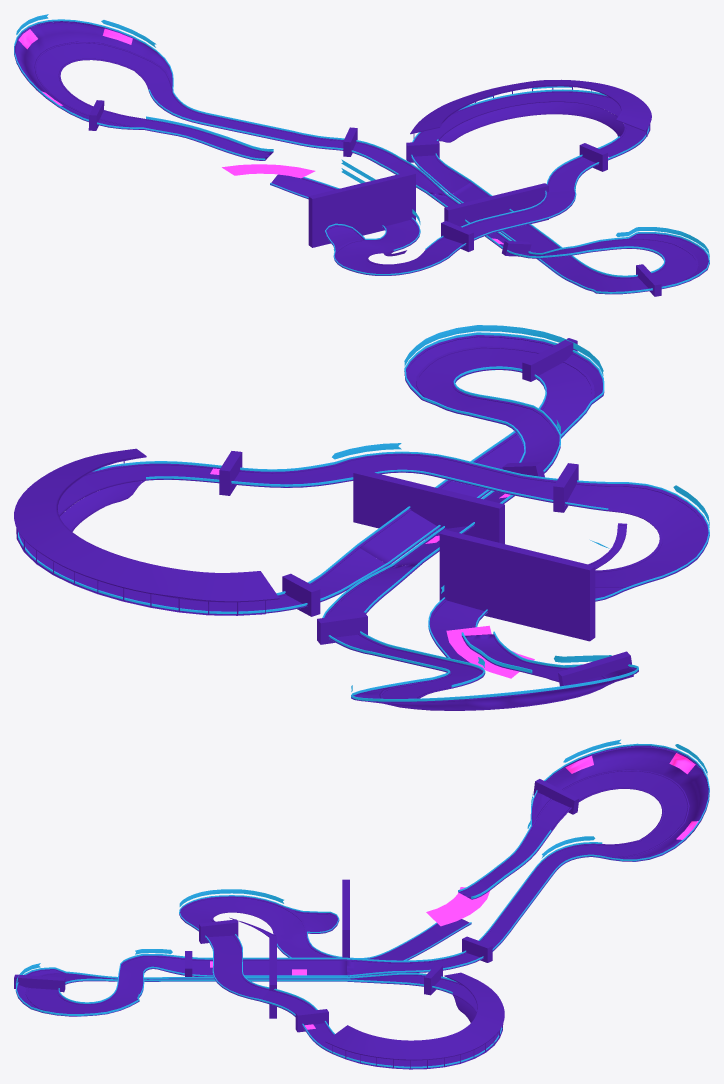
The model's file is spaceway-track.glb.
3 renders of one model, top to bottom at view 1: azimuth 30°, elevation 25°; view 2: azimuth 150°, elevation 25°; view 3: azimuth 270°, elevation 25°, orthographic. The views are drawn at different scales.
Parts seen in each view (by area): view 1: base, edge, boost; view 2: base, edge, boost; view 3: base, edge, boost.
Part boxes in pixels (x1,y1,x2,y2): base: [14, 21, 709, 296]; edge: [14, 14, 709, 293]; boost: [18, 28, 609, 244]; base: [14, 335, 709, 710]; edge: [18, 325, 709, 701]; boost: [210, 468, 534, 678]; base: [14, 745, 709, 1069]; edge: [15, 739, 709, 1068]; boost: [210, 753, 698, 1029].
Bounding box in the file's own units: 159 × 37.11 × 190.
